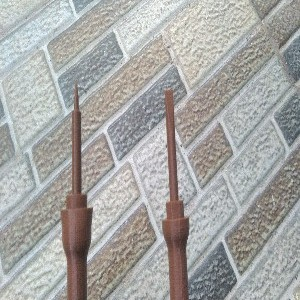obeng: (161, 89, 190, 300)
solder: (60, 82, 94, 300)
